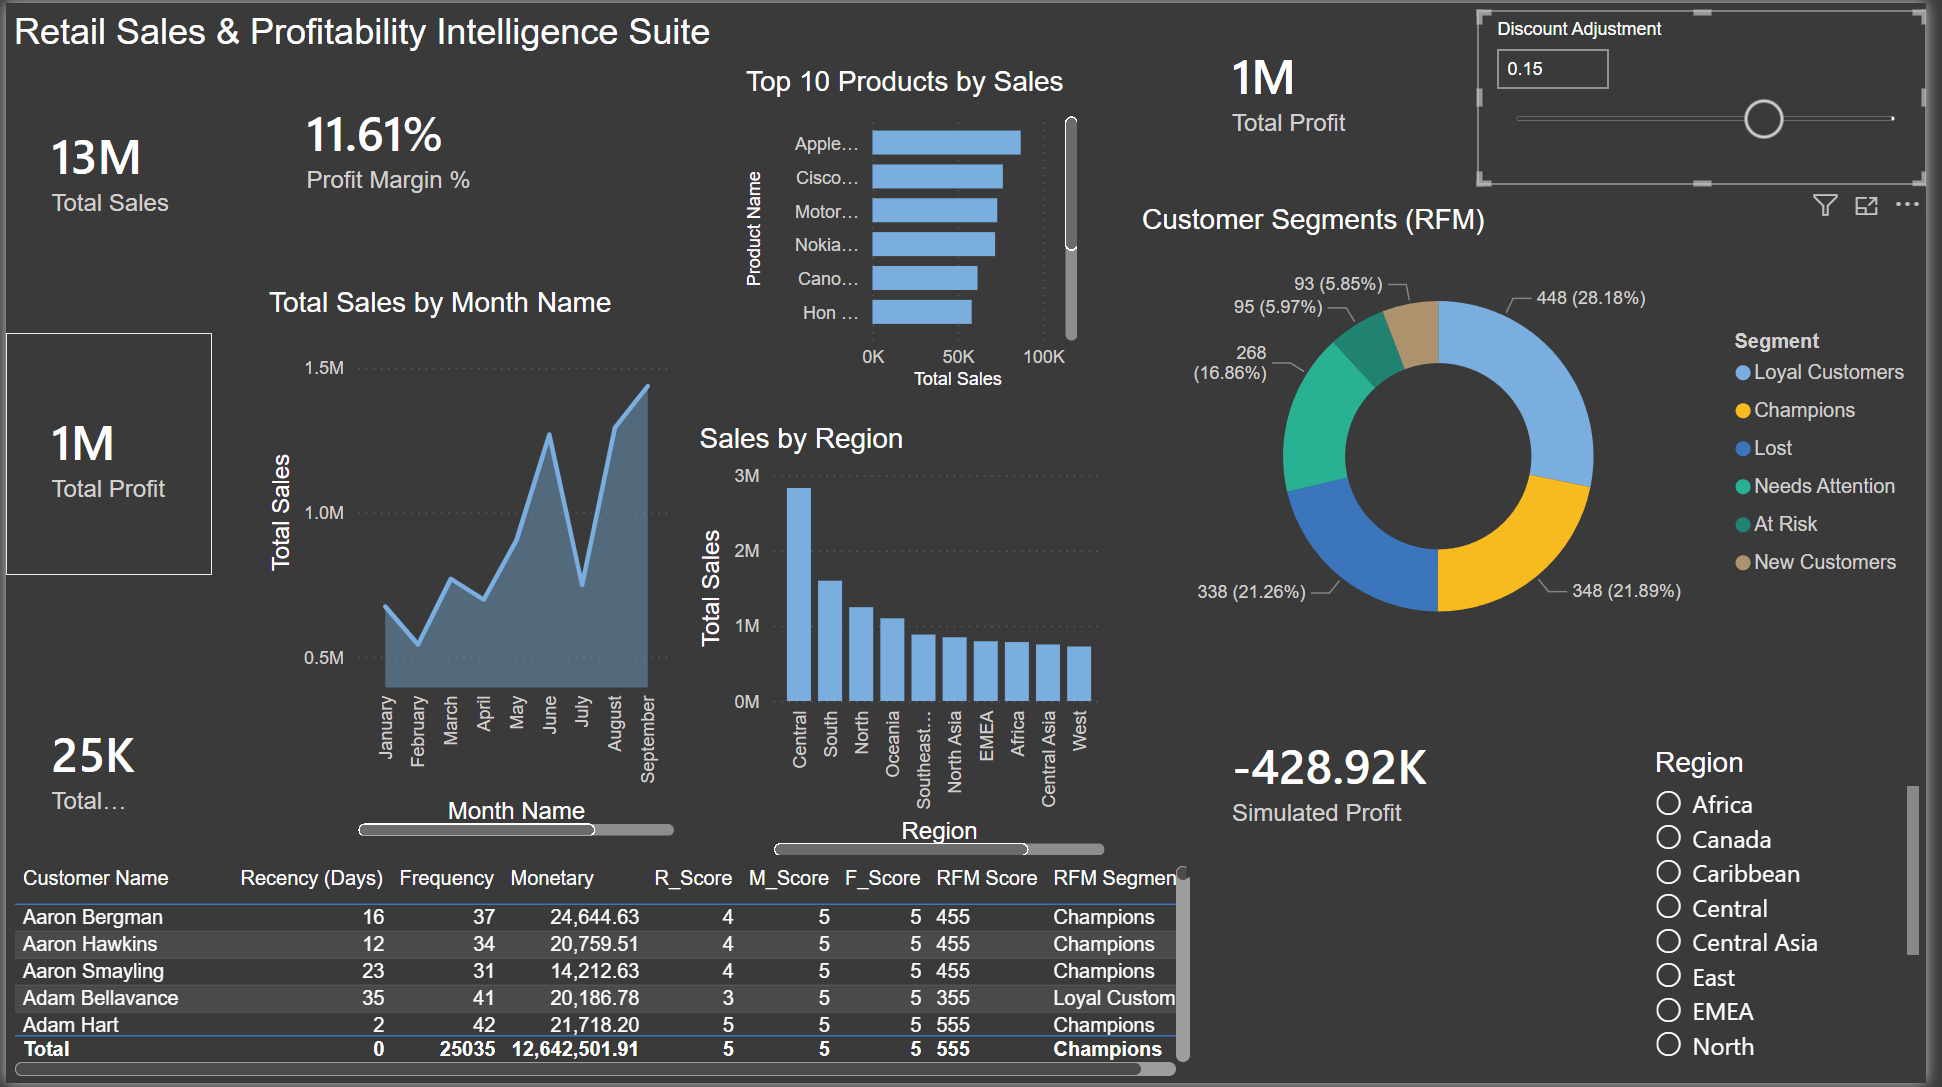

The page's visual inventory and layout, read from the dashboard file:
{"tool":"powerbi","page":{"name":"Page 1","canvas":[1280,720],"ordinal":0},"visuals":[{"type":"cardVisual","fields":{"Data":["Fact_Orders.Total Sales"]},"box":[0,0,151,220],"z":0},{"type":"cardVisual","fields":{"Data":["Fact_Orders.Total Profit"]},"box":[0,220,137,161],"z":1000},{"type":"cardVisual","fields":{"Data":["Fact_Orders.Total Orders"]},"box":[0,433,137,150],"z":2000},{"type":"cardVisual","fields":{"Data":["Fact_Orders.Profit Margin %"]},"box":[170,0,280,189],"z":3000},{"type":"lineChart","fields":{"Category":["Dim_Date.Month Name"],"Y":["Fact_Orders.Total Sales"]},"box":[170,189,280,371],"z":4000},{"type":"clusteredBarChart","title":"Top 10 Products by Sales","fields":{"Category":["Dim_Product.Product Name"],"Y":["Fact_Orders.Total Sales"]},"box":[488,42,231,220],"z":5000},{"type":"clusteredColumnChart","title":"Sales by Region","fields":{"Category":["Dim_Region.Region"],"Y":["Fact_Orders.Total Sales"]},"box":[457,280,280,293],"z":6000},{"type":"tableEx","fields":{"Values":["Dim_Customer.Customer Name","Fact_Orders.Recency (Days)","Fact_Orders.Frequency","Fact_Orders.Monetary","Fact_Orders.R_Score","Fact_Orders.M_Score","Fact_Orders.F_Score","Fact_Orders.RFM Score","Fact_Orders.RFM Segment"]},"box":[0,570,794.3,150],"z":7000},{"type":"donutChart","title":"Customer Segments (RFM)","fields":{"Category":["Customer_RFM.Segment"],"Y":["CountNonNull(Customer_RFM.Customer ID)"]},"box":[752,134,528,315],"z":8000},{"type":"slicer","fields":{"Values":["Discount Adjustment 2.Discount Adjustment"]},"box":[981,5,299,116],"z":9000},{"type":"cardVisual","fields":{"Data":["Fact_Orders.Total Profit"]},"box":[787,0,158,113],"z":10000},{"type":"cardVisual","fields":{"Data":["Fact_Orders.Simulated Profit"]},"box":[787,449,260,134],"z":11000},{"type":"listSlicer","fields":{"Values":["Dim_Region.Region"]},"box":[1094,496,186,217],"z":12000},{"type":"textbox","box":[0,0,479,51],"z":12001}]}

Visuals, with their boxes in screenshot pixels (x1, y1, x2, y2), scaled from the page's 1280x720 canvas onto the 1942x1087 screenshot:
cardVisual - Fact_Orders.Total Sales: 0,0,229,332
cardVisual - Fact_Orders.Total Profit: 0,332,208,575
cardVisual - Fact_Orders.Total Orders: 0,654,208,880
cardVisual - Fact_Orders.Profit Margin %: 258,0,683,285
lineChart - Dim_Date.Month Name x Fact_Orders.Total Sales: 258,285,683,845
"Top 10 Products by Sales" clusteredBarChart: 740,63,1091,396
"Sales by Region" clusteredColumnChart: 693,423,1118,865
tableEx - Dim_Customer.Customer Name x Fact_Orders.Recency (Days): 0,861,1205,1086
"Customer Segments (RFM)" donutChart: 1141,202,1941,678
slicer - Discount Adjustment 2.Discount Adjustment: 1488,8,1941,183
cardVisual - Fact_Orders.Total Profit: 1194,0,1434,171
cardVisual - Fact_Orders.Simulated Profit: 1194,678,1588,880
listSlicer - Dim_Region.Region: 1660,749,1941,1076
textbox: 0,0,727,77
